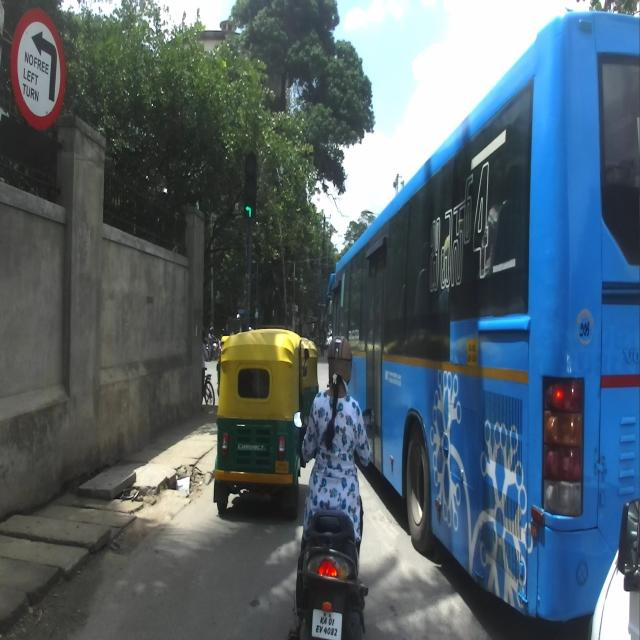autorickshaw: (212, 327, 309, 520)
bus: (330, 8, 640, 630)
scooter: (291, 404, 375, 638)
